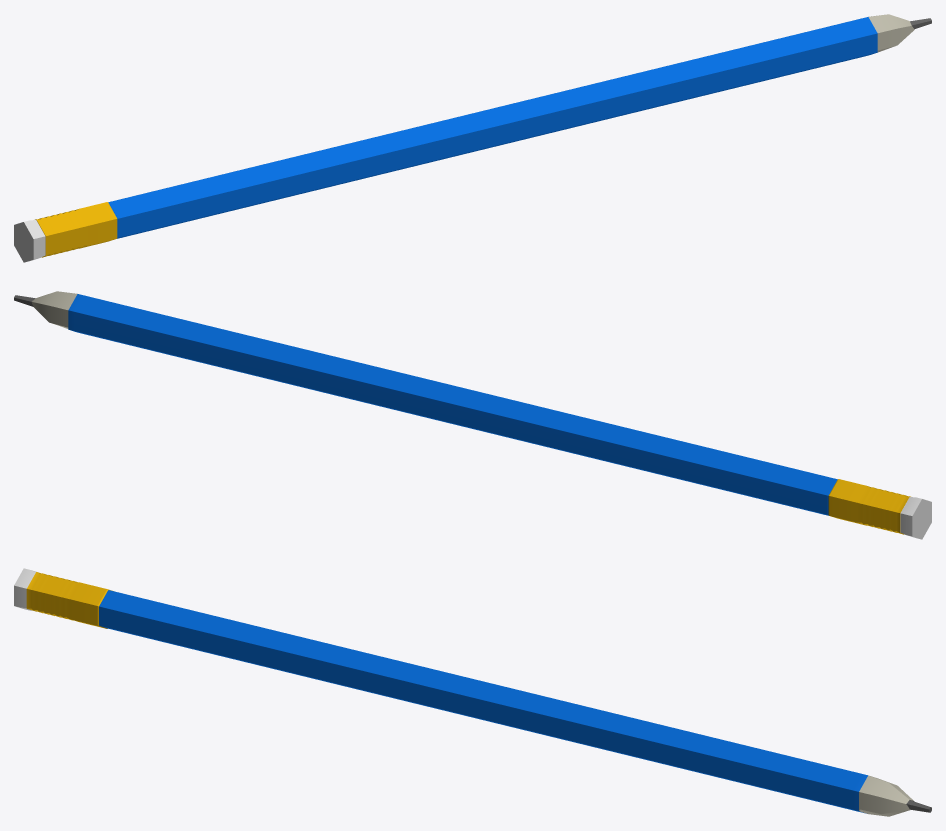
Rendered from pencil.fbx.
3 views of the same model, one above another, from view 1: azimuth 30°, elevation 25°; view 2: azimuth 150°, elevation 25°; view 3: azimuth 330°, elevation 25° (orthographic).
Visible parts, largest first — view 1: pasted__pSphere1; view 2: pasted__pSphere1; view 3: pasted__pSphere1.
Part boxes in pixels (bbox=[...]): pasted__pSphere1: bbox=[14, 14, 931, 262]; pasted__pSphere1: bbox=[14, 291, 931, 539]; pasted__pSphere1: bbox=[14, 568, 931, 816].
Size of what is drawn, in the model's own units: 42.37 by 1.83 by 1.58.
